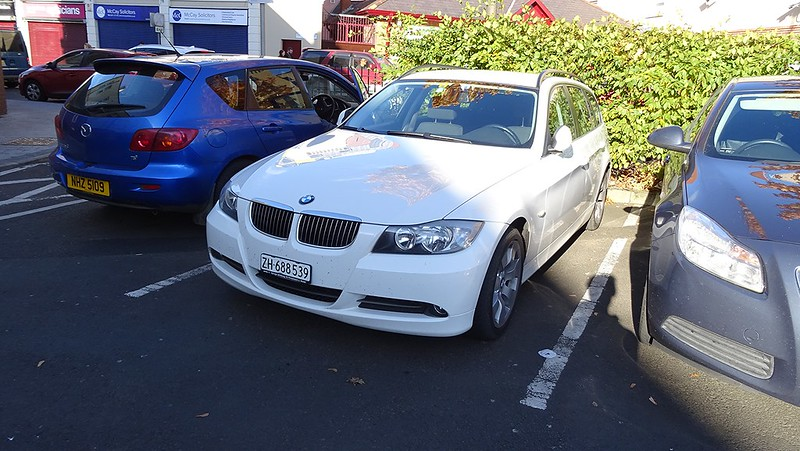number_plate: (58, 169, 124, 205), (257, 251, 323, 287)
